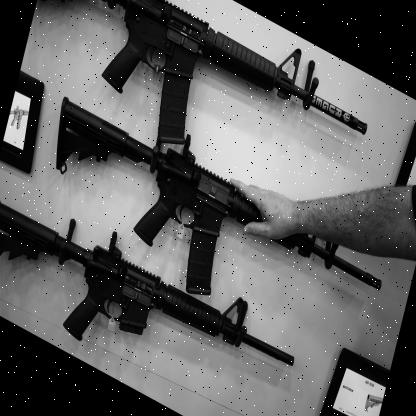rifle: (27, 80, 390, 386), (0, 170, 309, 416), (34, 0, 378, 200)
